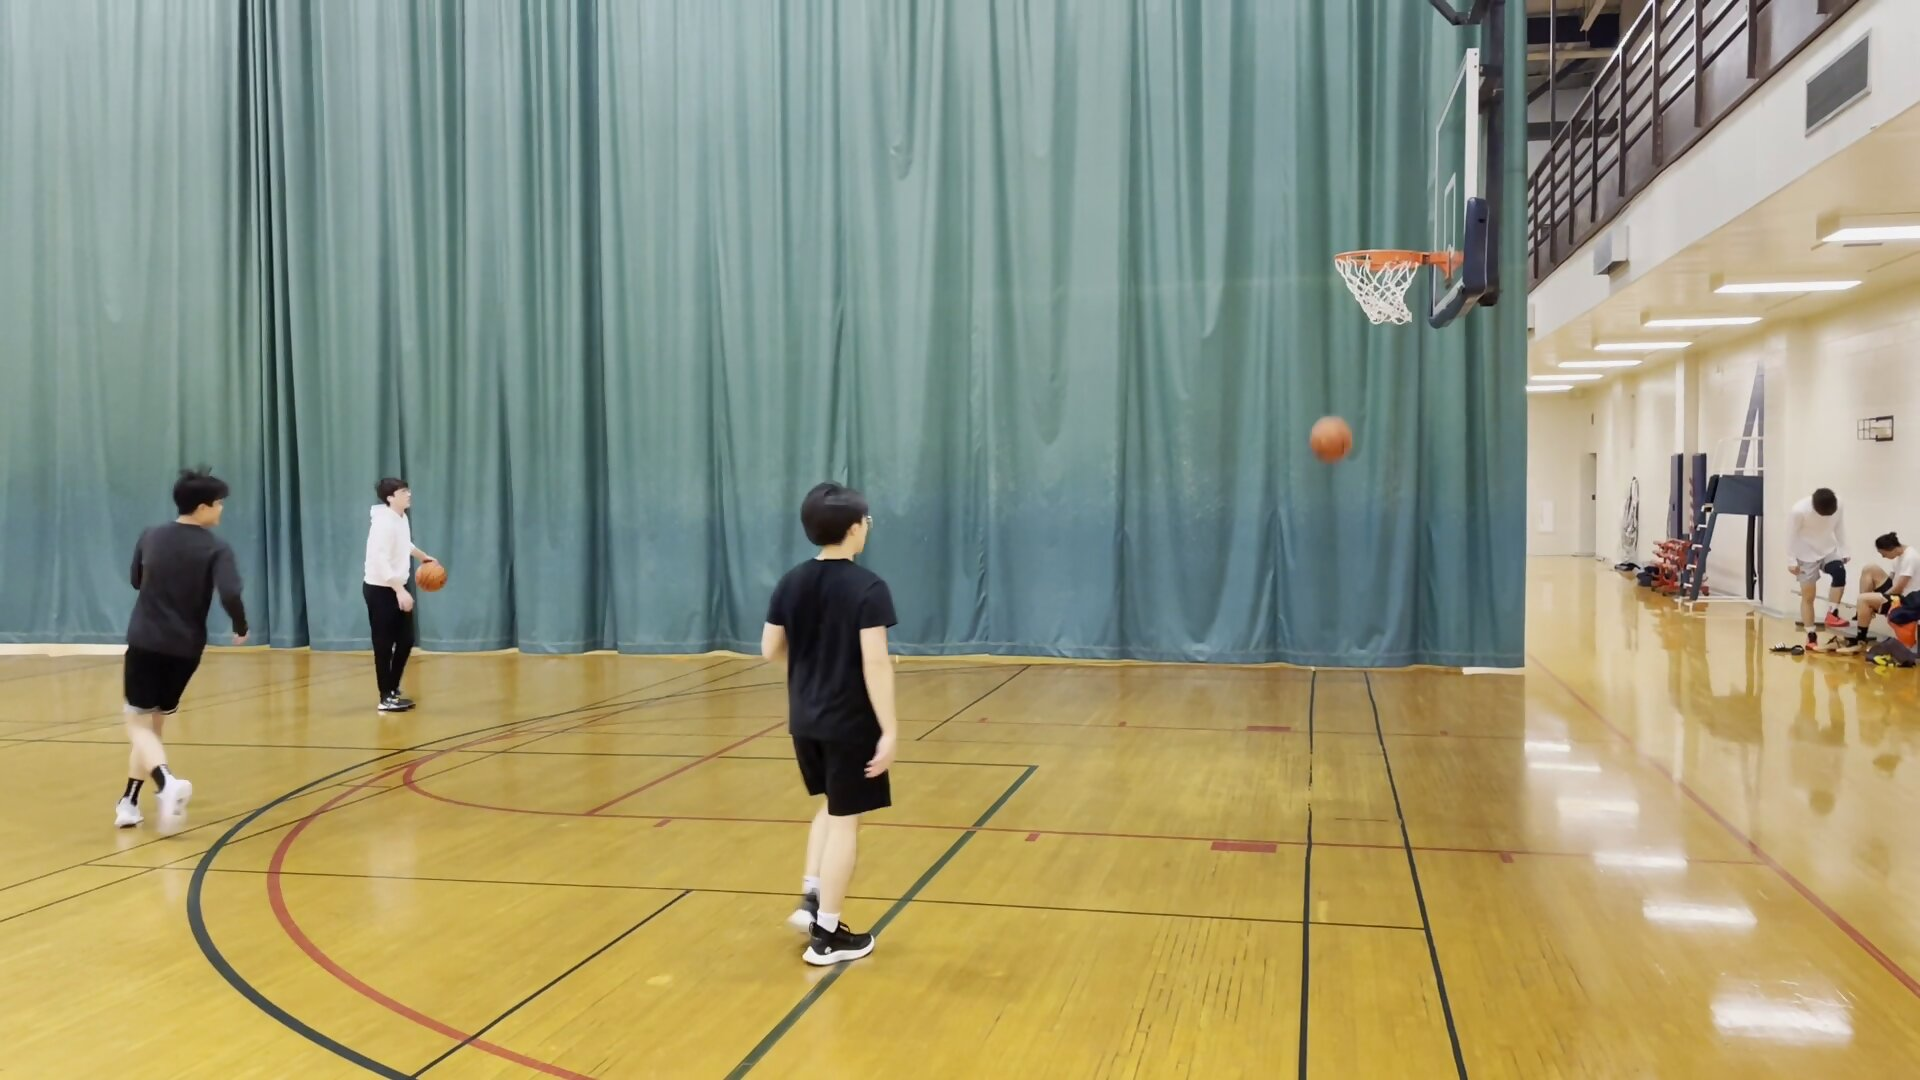ball: (1307, 416, 1355, 463), (411, 559, 449, 597)
net: (1351, 301, 1424, 330)
player: (764, 481, 900, 976), (114, 473, 254, 825), (359, 474, 441, 717), (1783, 488, 1853, 650), (1854, 531, 1920, 643)
rim: (1326, 244, 1431, 273)
